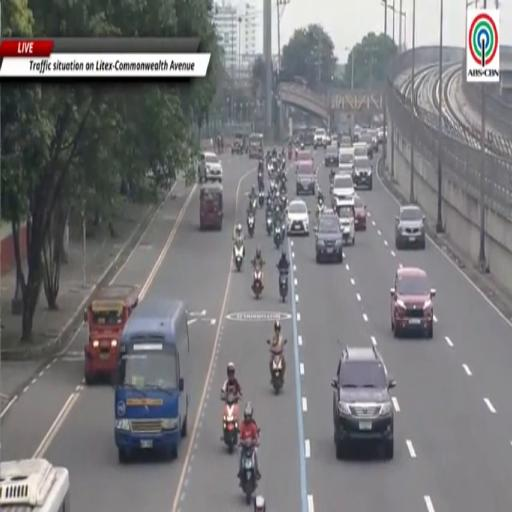bus: (115, 297, 190, 462), (0, 459, 70, 511)
car: (331, 346, 395, 459), (391, 267, 435, 339), (315, 211, 342, 263), (396, 204, 425, 249), (334, 198, 354, 245), (198, 152, 223, 183), (287, 200, 309, 235), (296, 160, 315, 196), (353, 157, 372, 189), (332, 174, 354, 199), (339, 147, 354, 174), (355, 196, 366, 230), (360, 132, 373, 158), (313, 128, 327, 148), (325, 146, 338, 167), (353, 141, 368, 157), (296, 150, 313, 163), (304, 128, 314, 146), (340, 135, 352, 148), (378, 128, 384, 143), (326, 132, 332, 146), (331, 134, 338, 145)
jeepney: (84, 284, 139, 385), (199, 182, 223, 230), (249, 134, 263, 158), (232, 134, 245, 154)
motorcycle: (240, 440, 257, 505), (223, 394, 238, 453), (271, 351, 284, 393), (252, 266, 263, 298), (279, 270, 288, 302), (234, 244, 244, 271), (274, 224, 282, 249), (266, 213, 273, 235), (248, 214, 254, 237), (316, 202, 324, 219), (258, 171, 264, 190), (258, 190, 264, 207), (251, 196, 257, 211), (270, 180, 276, 194), (288, 146, 292, 160)
